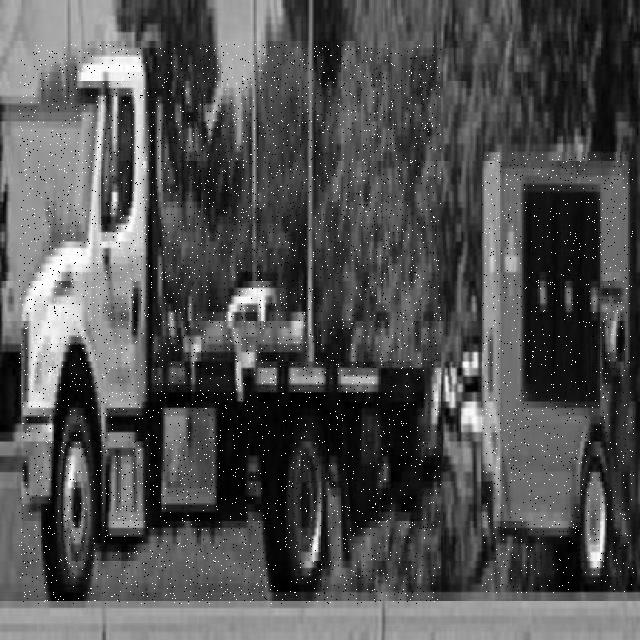Box Truck: (19, 44, 441, 604), (483, 152, 634, 593)
